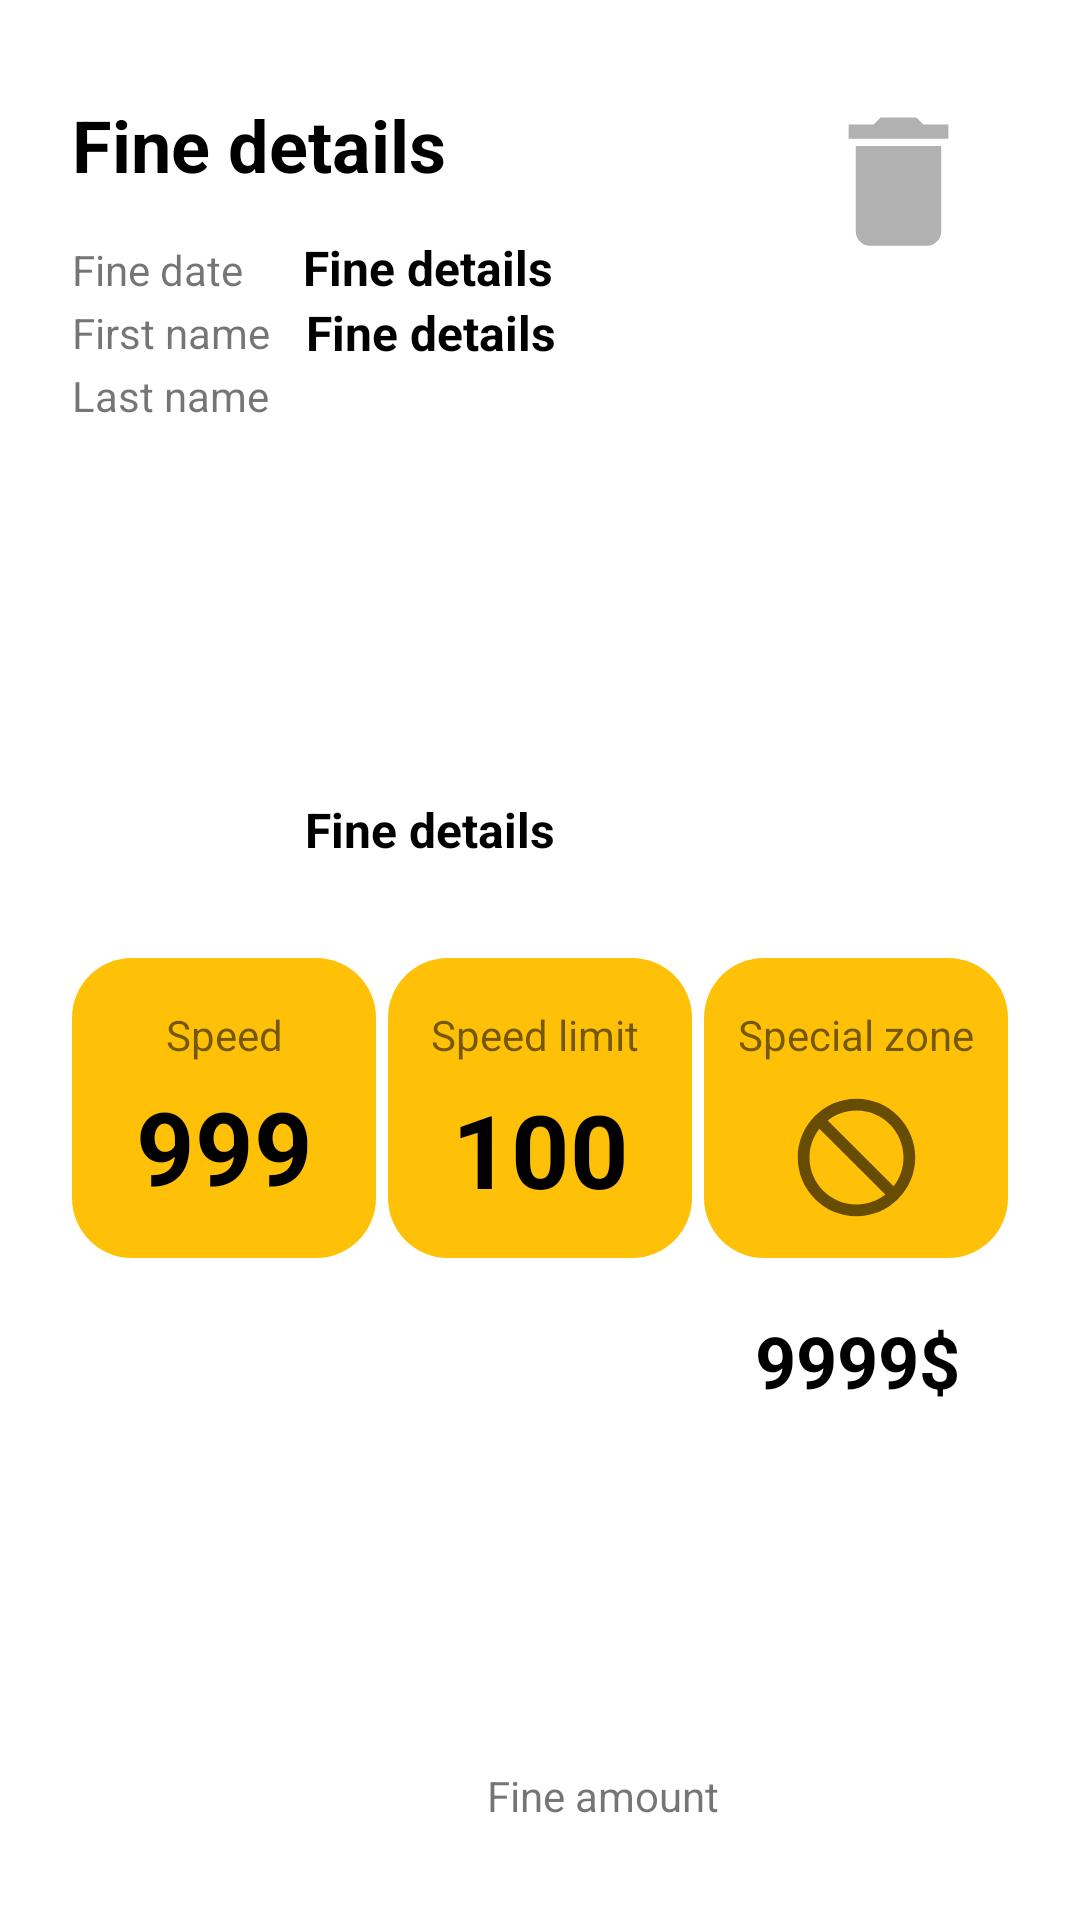

Named icons in this screenshot (1080w x 1920h) and their centers, (x,y):
delete: (898,181)
